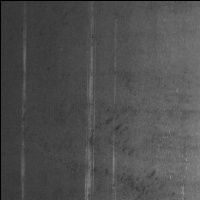scratches: (84, 14, 98, 200), (19, 7, 29, 200)
